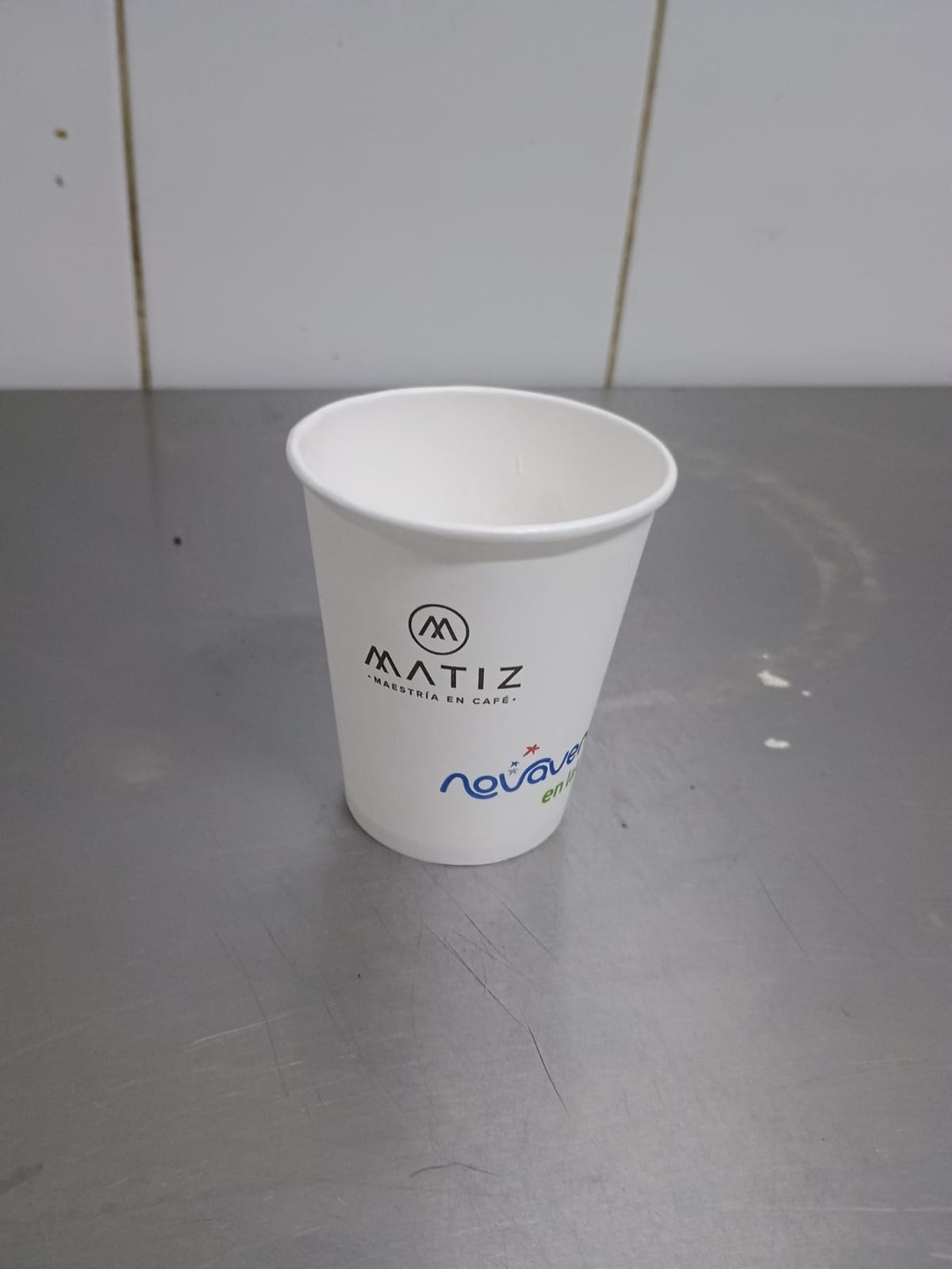Carton: (285, 388, 680, 871)
